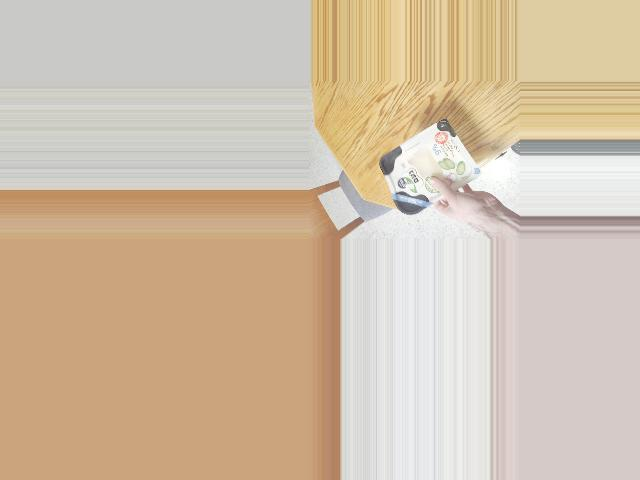cheese: (372, 127, 467, 215)
